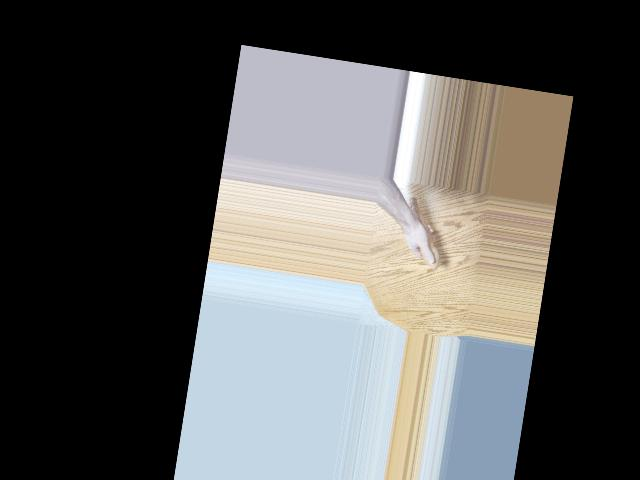sweet_potato: (398, 184, 451, 271)
